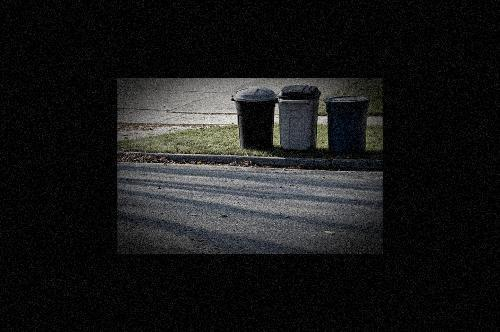Bote de Basura: (230, 83, 274, 149), (275, 81, 316, 149), (324, 96, 370, 153)
